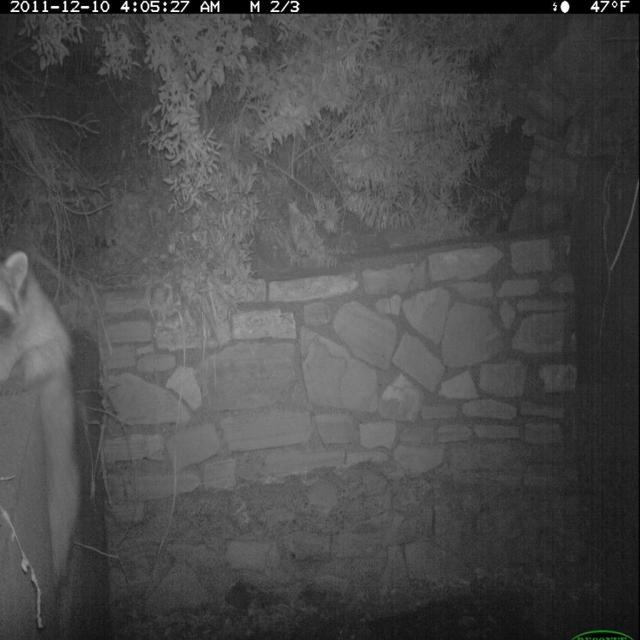raccoon: (1, 241, 83, 584)
